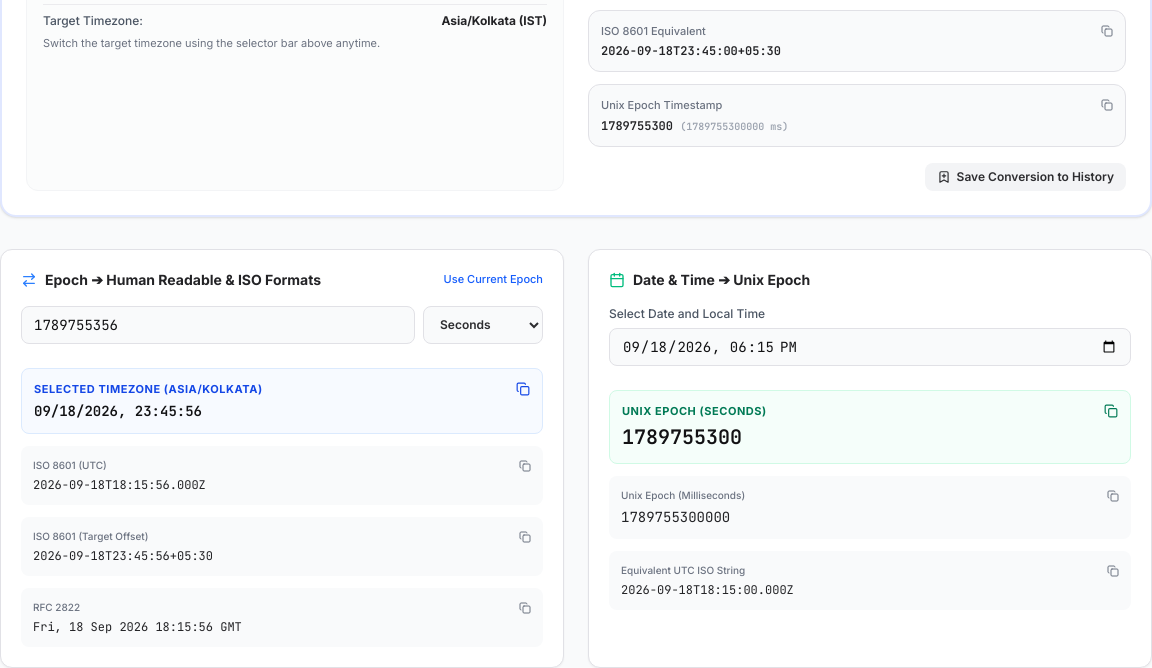
it: TimestampTool Component › performs input validation for malformed timestamps
(page scrolled)
Note: Type an invalid numeric string
Step 1. Replace the text in the field with placeholder "e.g. 1774175339" below "Epoch ➔ Human Readable & ISO Formats" with "not-a-timestamp" → [218, 324], box [21,306,415,344]
(page scrolled)
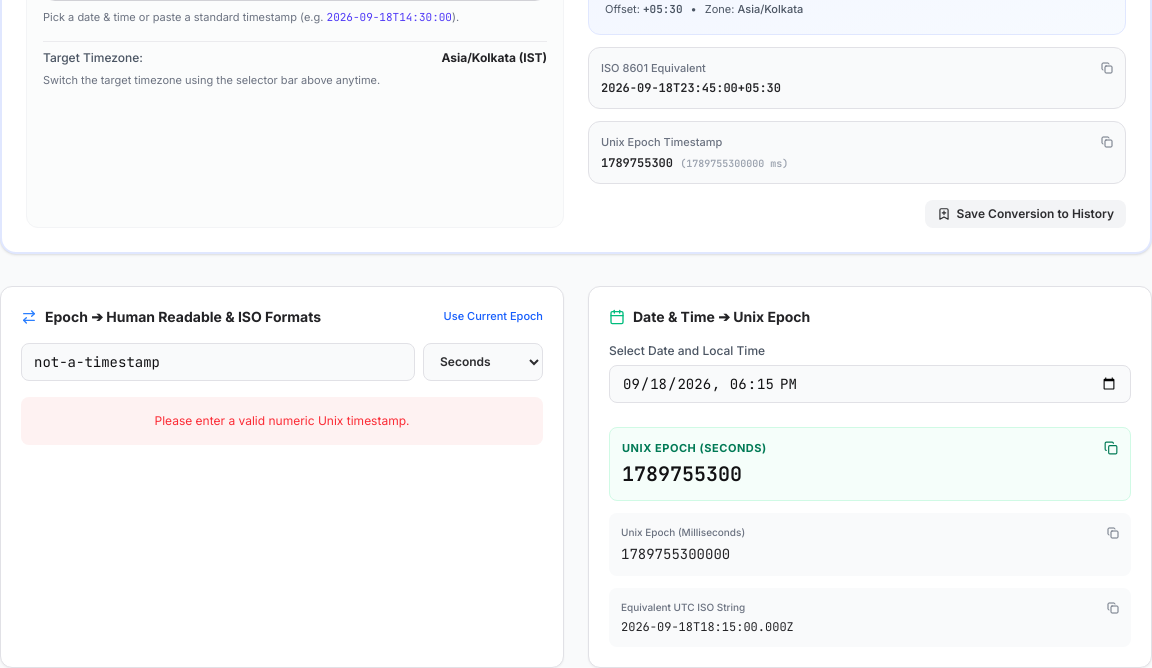
Now the text "Please enter a valid numeric Unix timestamp." is shown, box [21,396,543,444]
